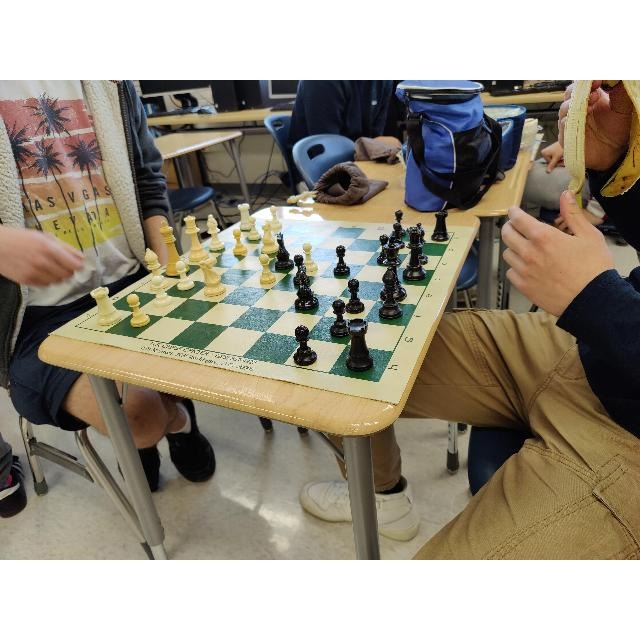black-bishop: (378, 267, 402, 319), (409, 222, 429, 265)
black-king: (380, 235, 406, 300)
black-knight: (294, 266, 318, 310), (275, 231, 294, 270)
black-pawn: (294, 326, 317, 366), (329, 299, 349, 338), (346, 279, 364, 313), (293, 254, 309, 284), (333, 245, 349, 275), (377, 233, 389, 262), (391, 223, 404, 248), (393, 210, 405, 235)
black-queen: (403, 226, 427, 281)
black-rook: (346, 318, 374, 371), (431, 210, 451, 242)
white-bishop: (145, 247, 168, 290), (206, 215, 225, 251)
white-king: (159, 221, 190, 277)
white-knight: (200, 257, 226, 296), (260, 218, 279, 253)
white-pawn: (126, 293, 149, 327), (151, 276, 172, 308), (175, 261, 195, 291), (258, 252, 275, 284), (302, 242, 318, 272), (233, 229, 248, 255), (247, 216, 261, 240), (269, 206, 282, 230)
white-queen: (184, 216, 210, 262)
white-rook: (90, 287, 121, 326), (238, 203, 251, 230)
